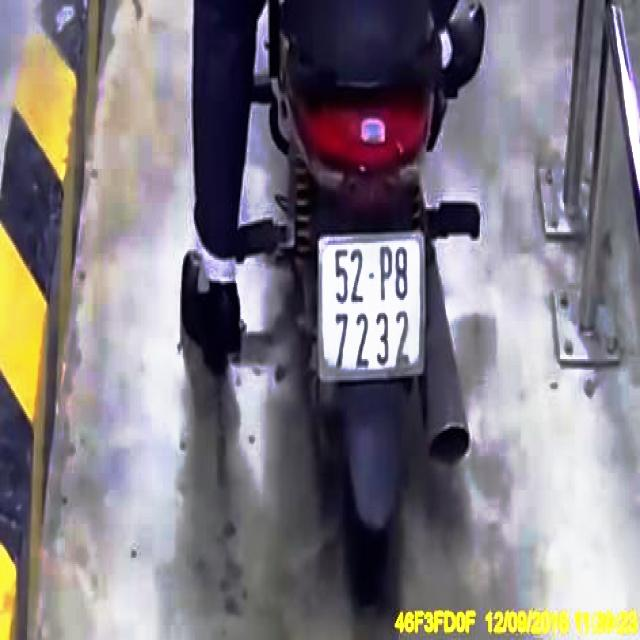license_plate: (322, 237, 425, 374)
